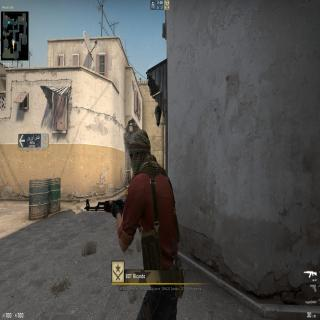T-Head: (128, 124, 155, 178)
